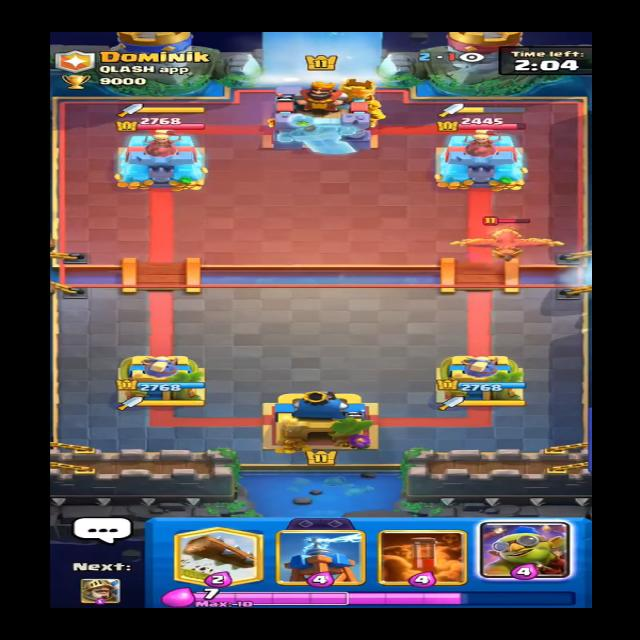phoenix: (448, 215, 570, 264)
